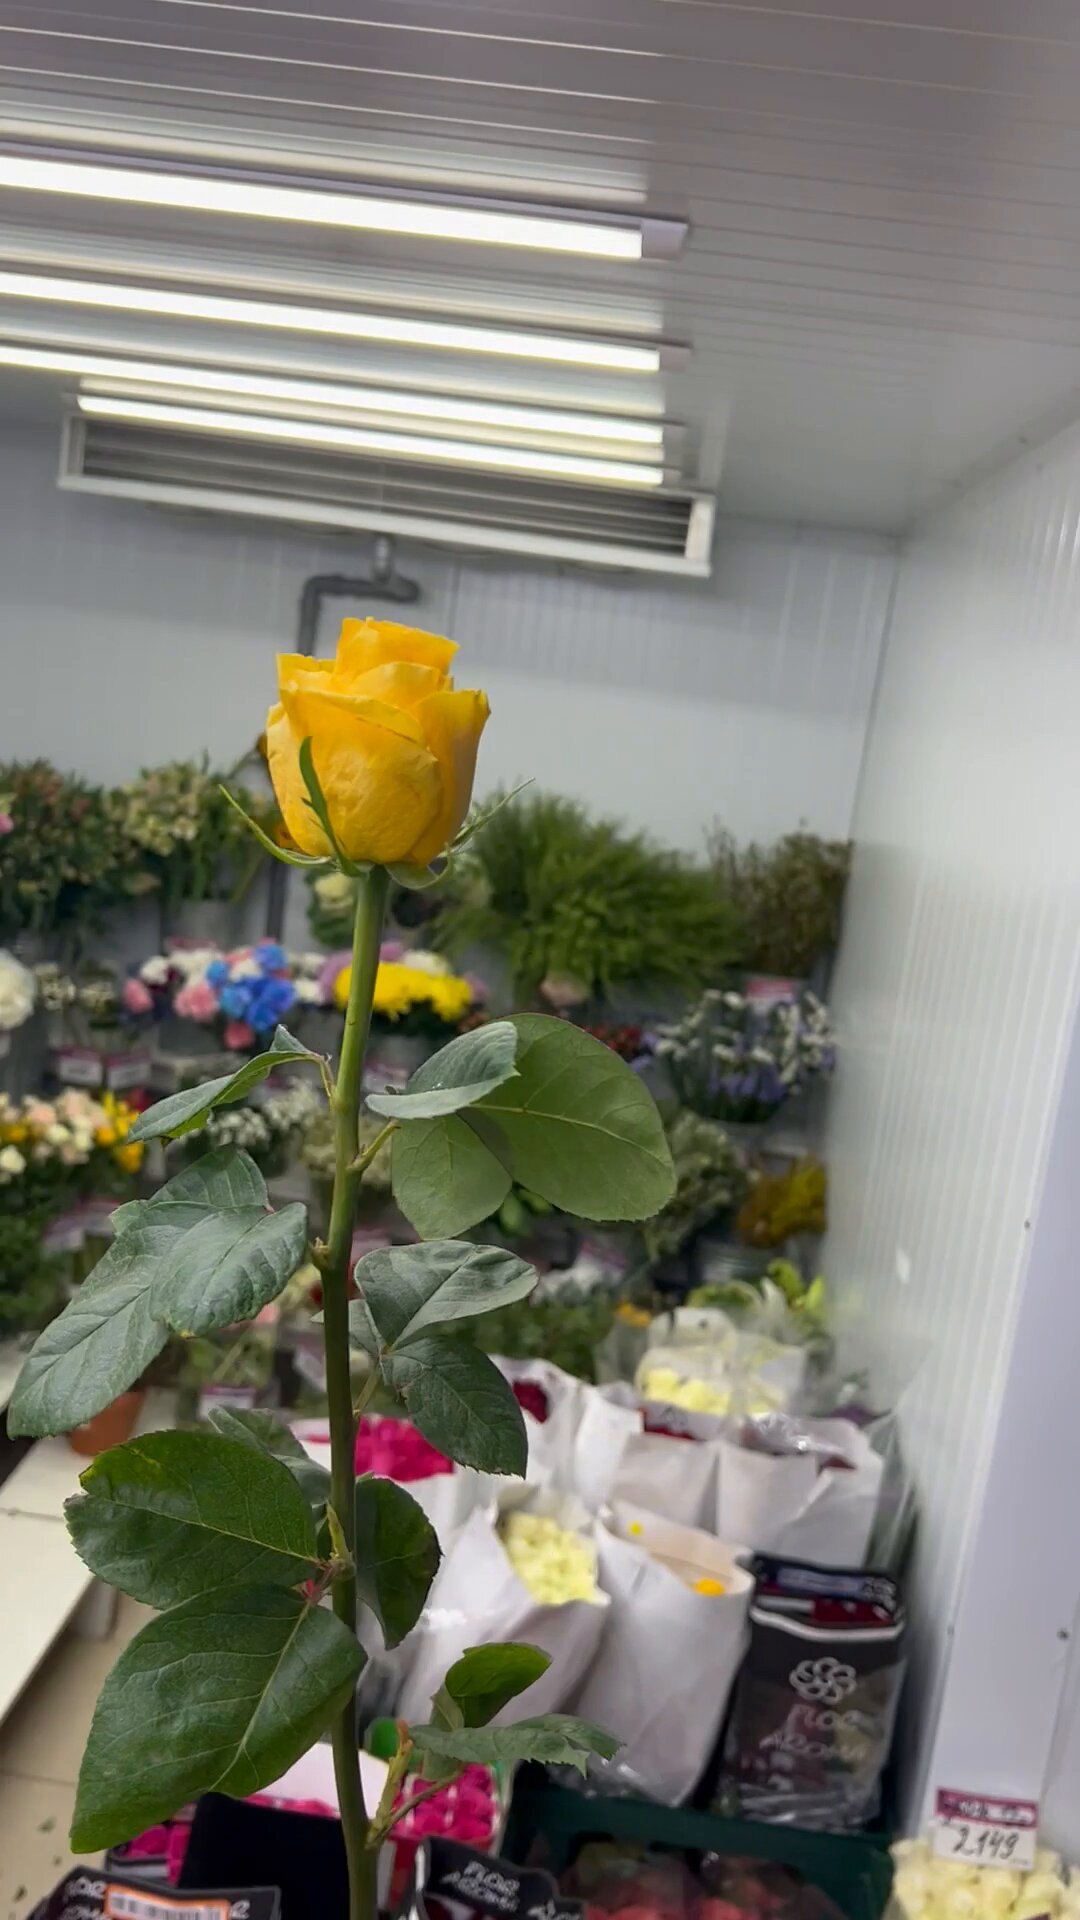rose: (75, 604, 673, 1920)
